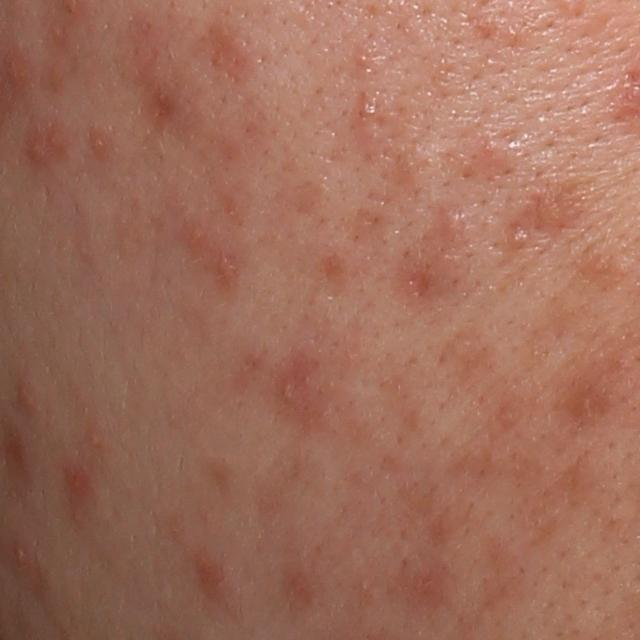papule: (530, 186, 574, 235), (193, 549, 229, 595), (433, 206, 464, 239), (64, 463, 92, 498), (216, 252, 240, 282), (25, 138, 48, 164), (14, 381, 34, 409), (91, 132, 111, 158)
